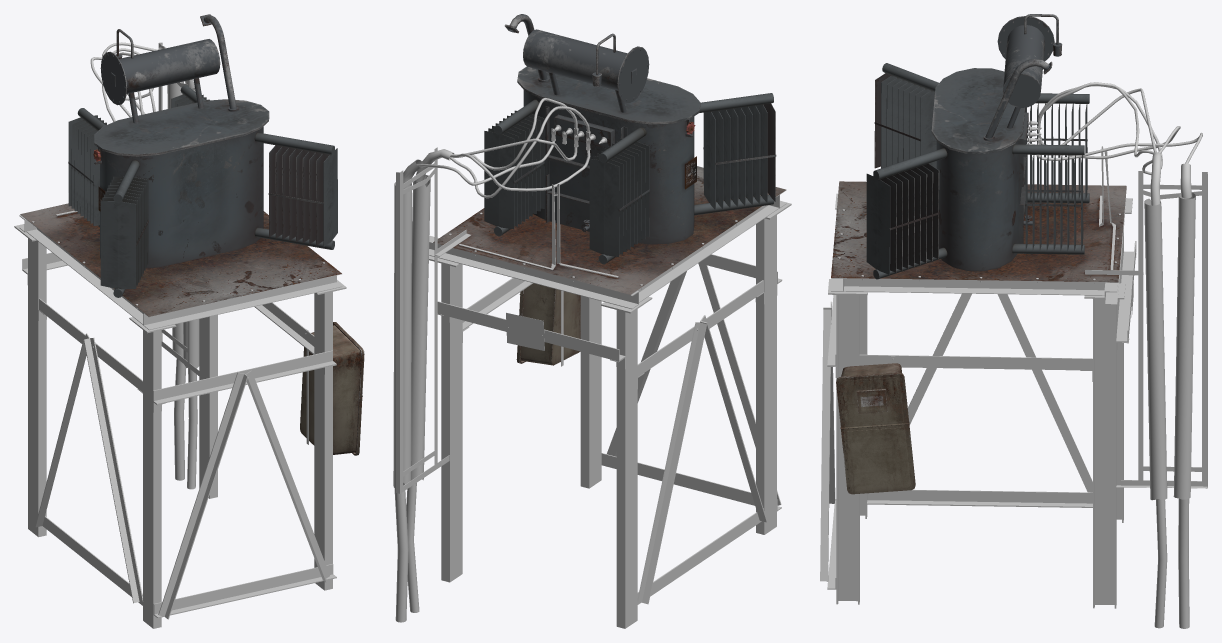
File: uploads_files_5257633_Transformer_01.fbx
3 renders of one model, left to right at view 1: azimuth 30°, elevation 25°; view 2: azimuth 150°, elevation 25°; view 3: azimuth 270°, elevation 25°, orthographic. The views are drawn at different scales.
Parts seen in each view (by area): view 1: Transformer_01; view 2: Transformer_01; view 3: Transformer_01.
Boxes of the visible parts, x1=… form: Transformer_01: x1=14, y1=14, x2=364, y2=628; Transformer_01: x1=393, y1=14, x2=791, y2=628; Transformer_01: x1=820, y1=14, x2=1207, y2=628.
Size of the model in its own units: 174 by 366 by 234.
